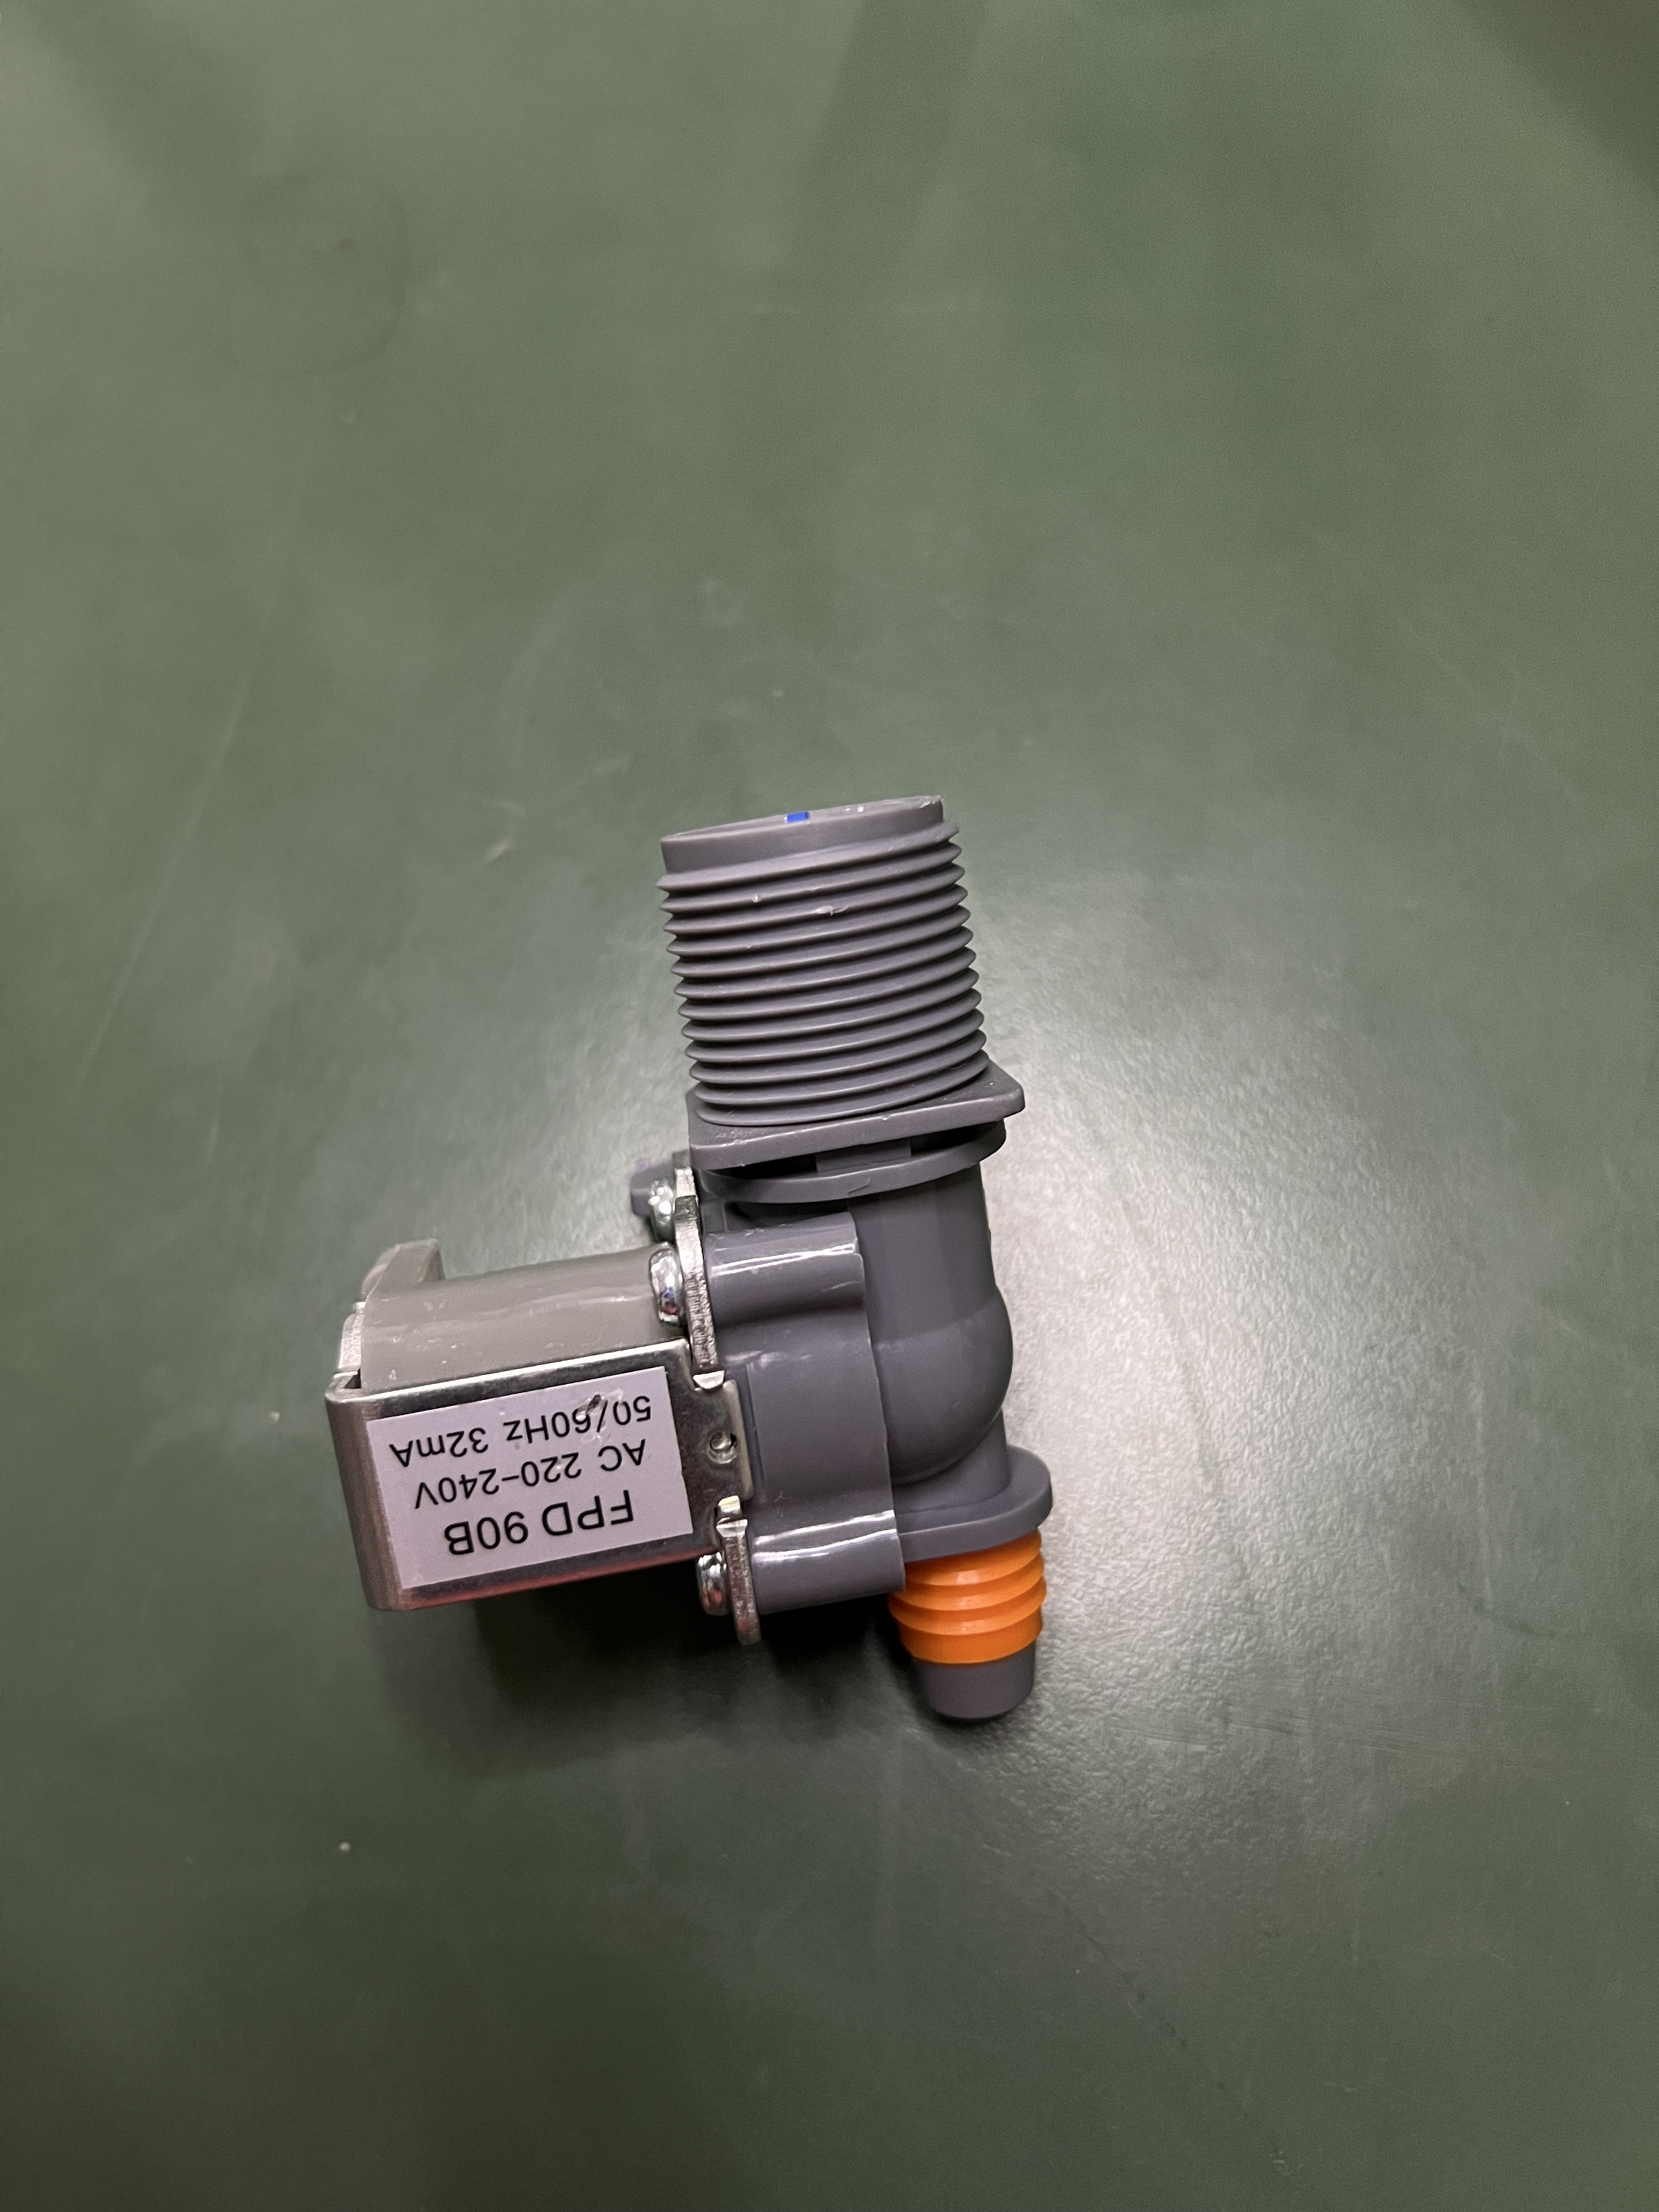inlet_valves: (293, 786, 1131, 1784)
